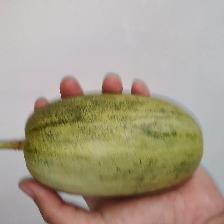gua: (20, 106, 207, 186)
